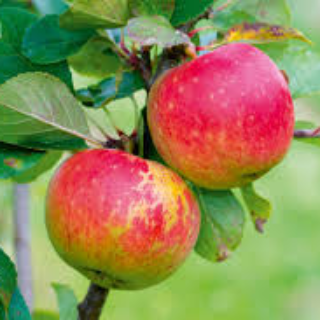tao: (41, 144, 204, 296), (143, 39, 301, 195)
